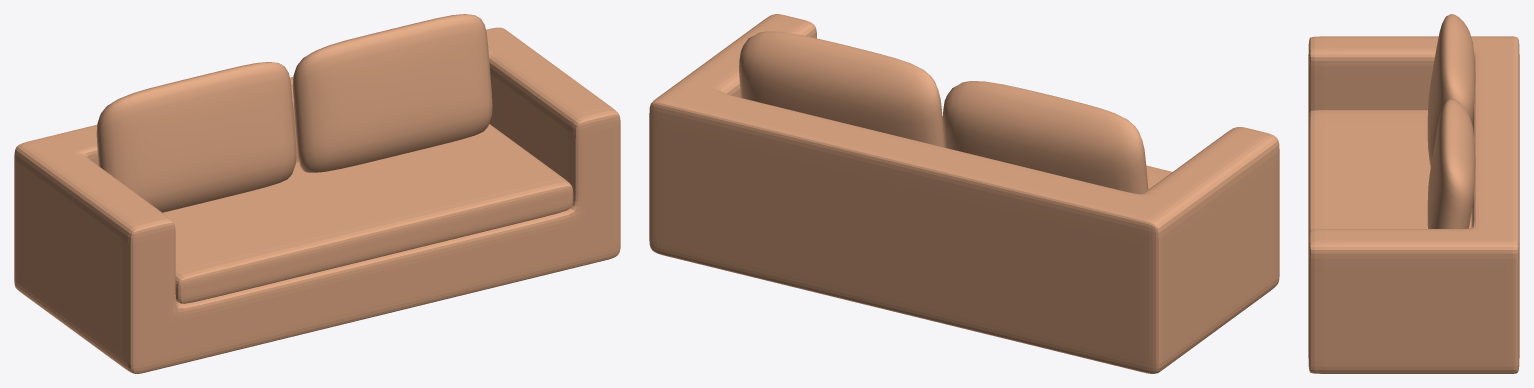
File: Sofa.fbx
3 views of the same model, side by side, from view 1: azimuth 30°, elevation 25°; view 2: azimuth 150°, elevation 25°; view 3: azimuth 270°, elevation 25° (orthographic). The views are drawn at different scales.
Parts seen in each view (by area): view 1: Sofa, Respaldo.001, Respaldo; view 2: Sofa, Respaldo.001, Respaldo; view 3: Sofa, Respaldo.001, Respaldo.
Boxes of the visible parts, x1,y1,x2,y2 form: Sofa: (14, 27, 620, 373); Respaldo.001: (292, 14, 492, 172); Respaldo: (96, 62, 296, 212); Sofa: (649, 14, 1279, 373); Respaldo.001: (739, 31, 944, 147); Respaldo: (942, 81, 1148, 193); Sofa: (1308, 36, 1519, 373); Respaldo.001: (1427, 99, 1475, 228); Respaldo: (1427, 14, 1475, 166).
Bounding box in the file's own units: 24.2 × 9.74 × 10.12.
